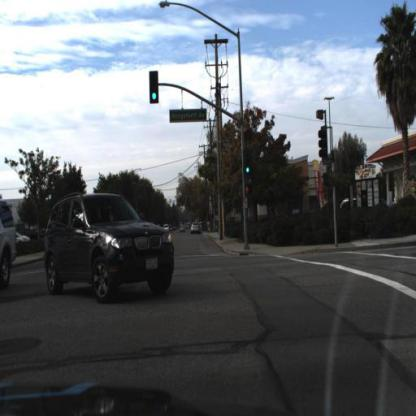car: (44, 191, 179, 299), (12, 226, 33, 247)
trafficLight-Green: (150, 69, 162, 105), (244, 149, 255, 183)
